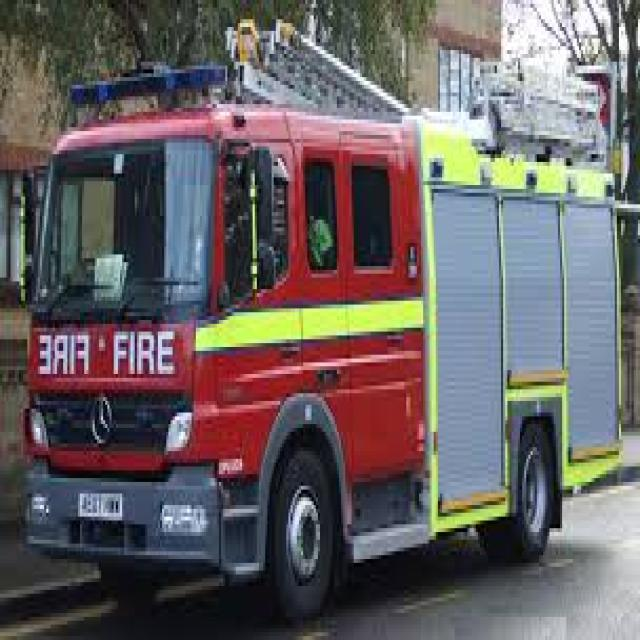Fire_brigade: (23, 19, 640, 640)
